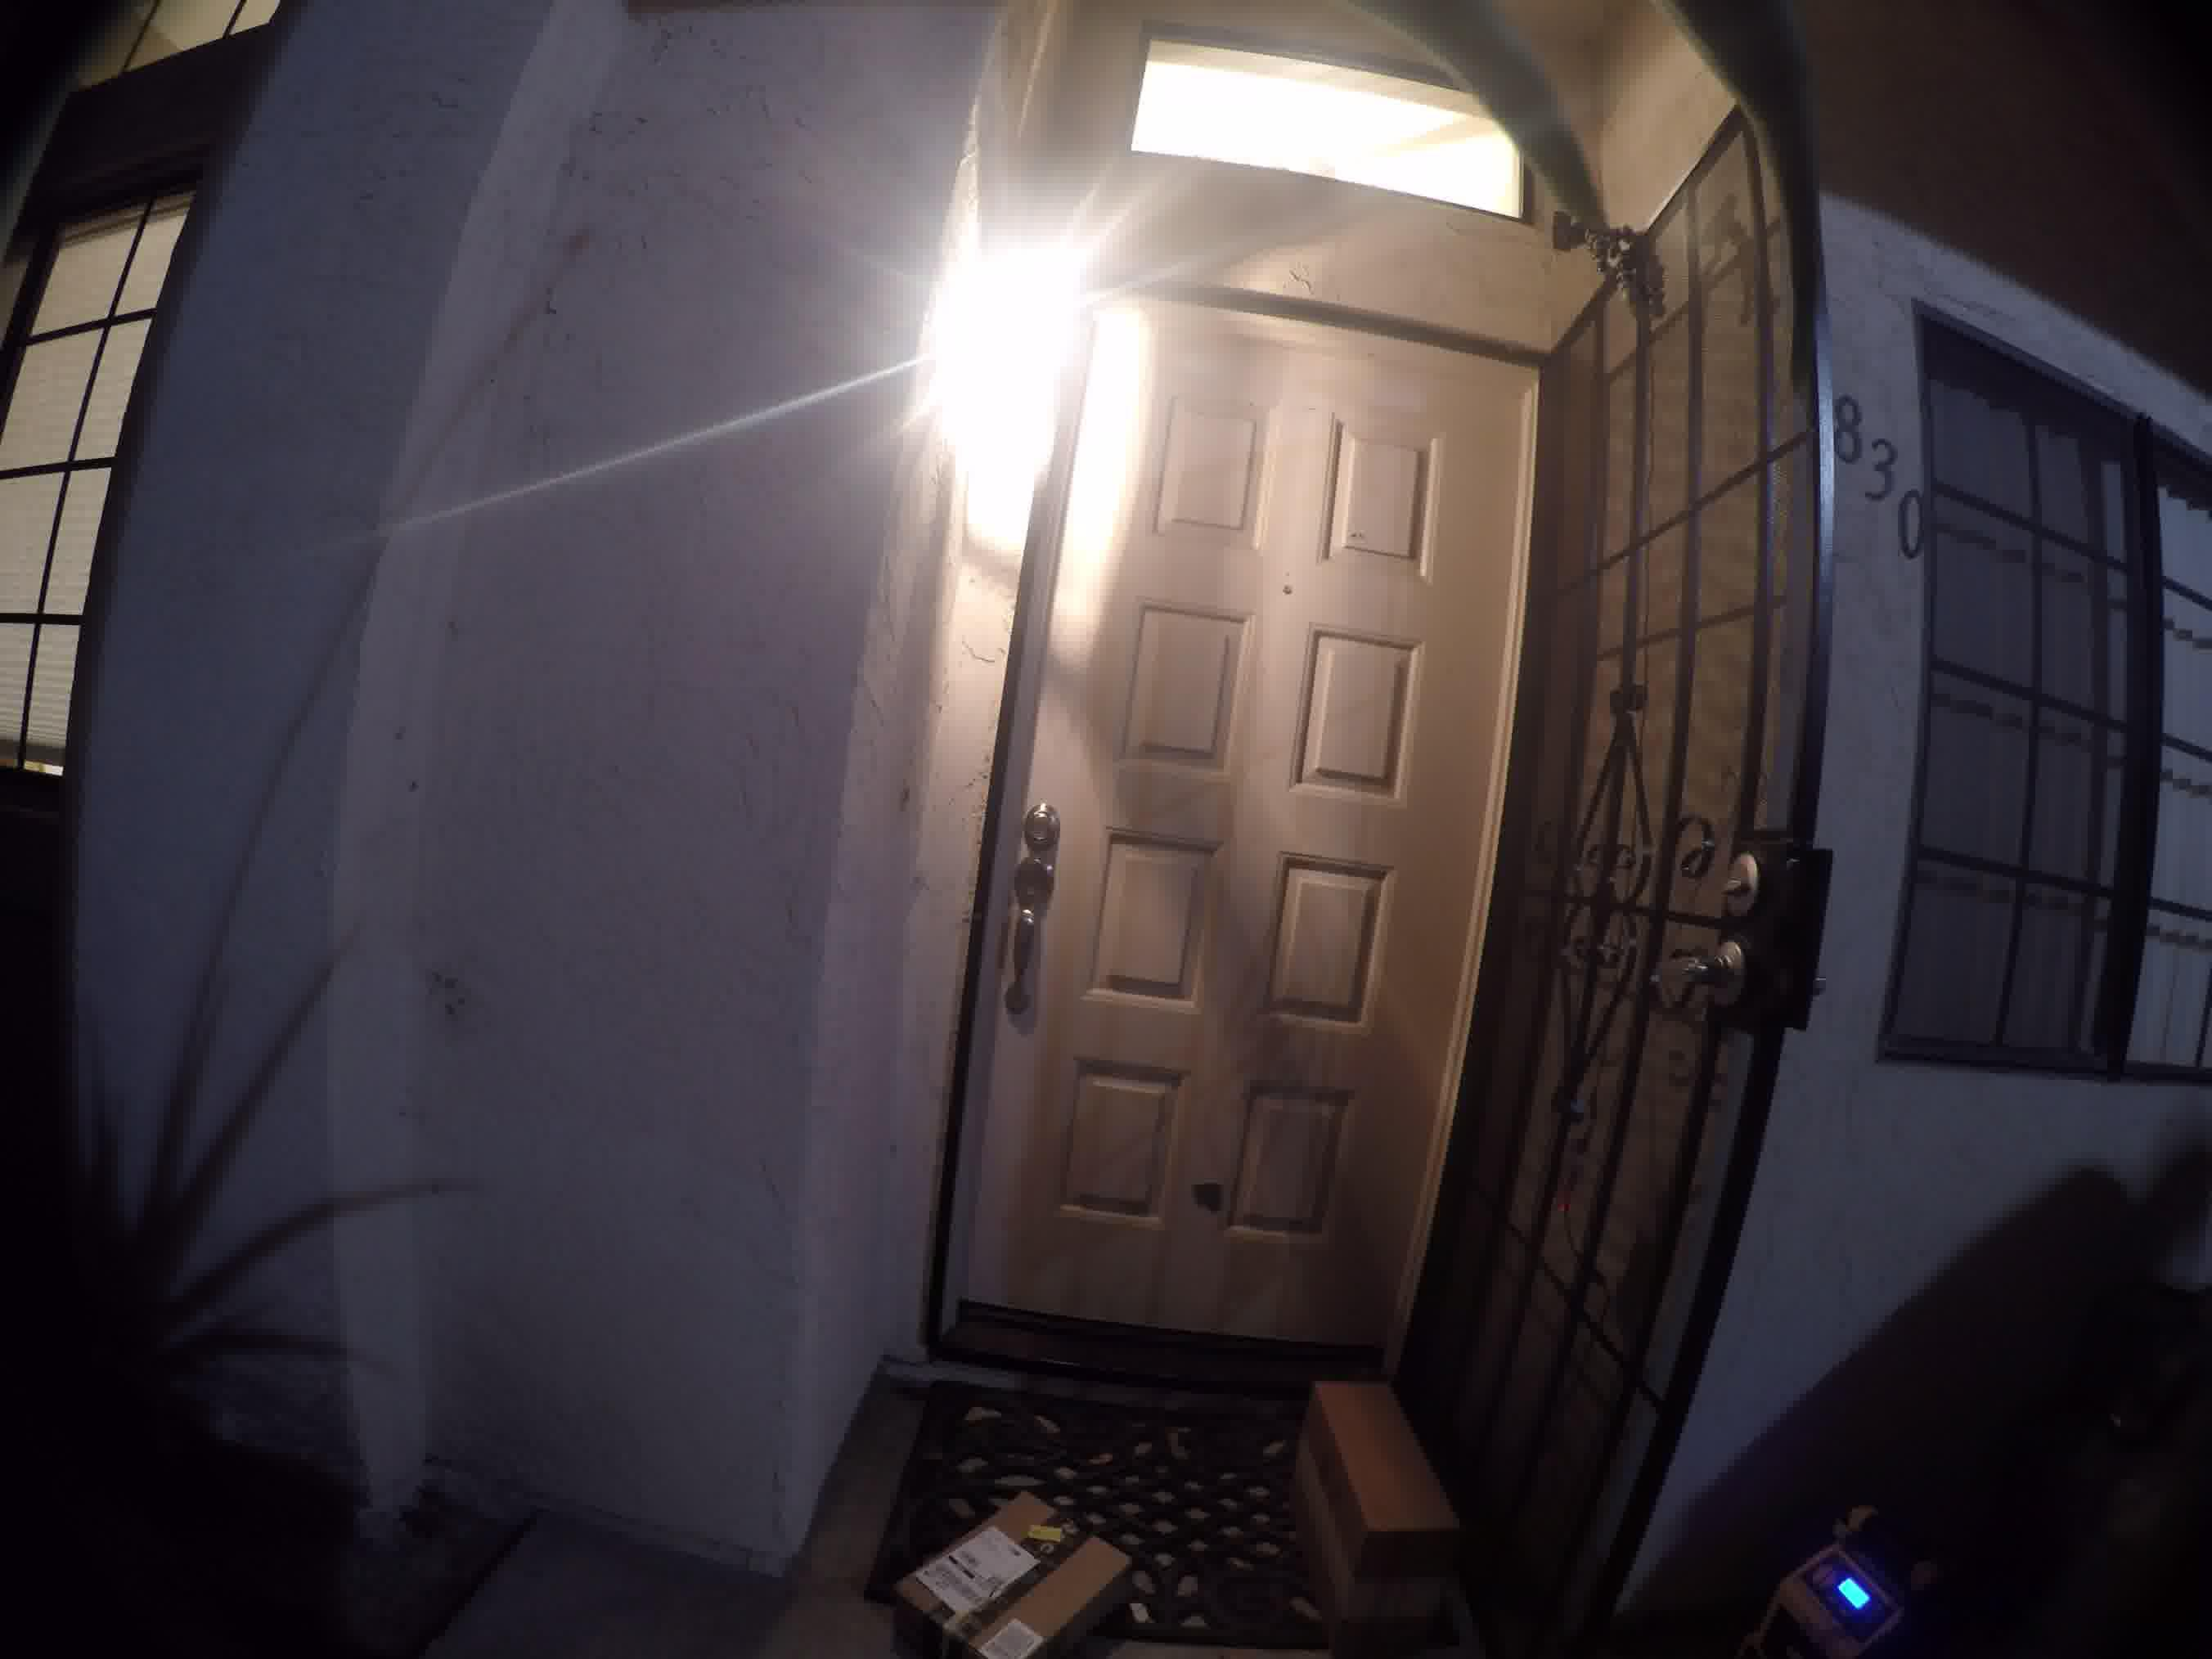box: (1291, 1377, 1463, 1622), (881, 1490, 1155, 1643)
